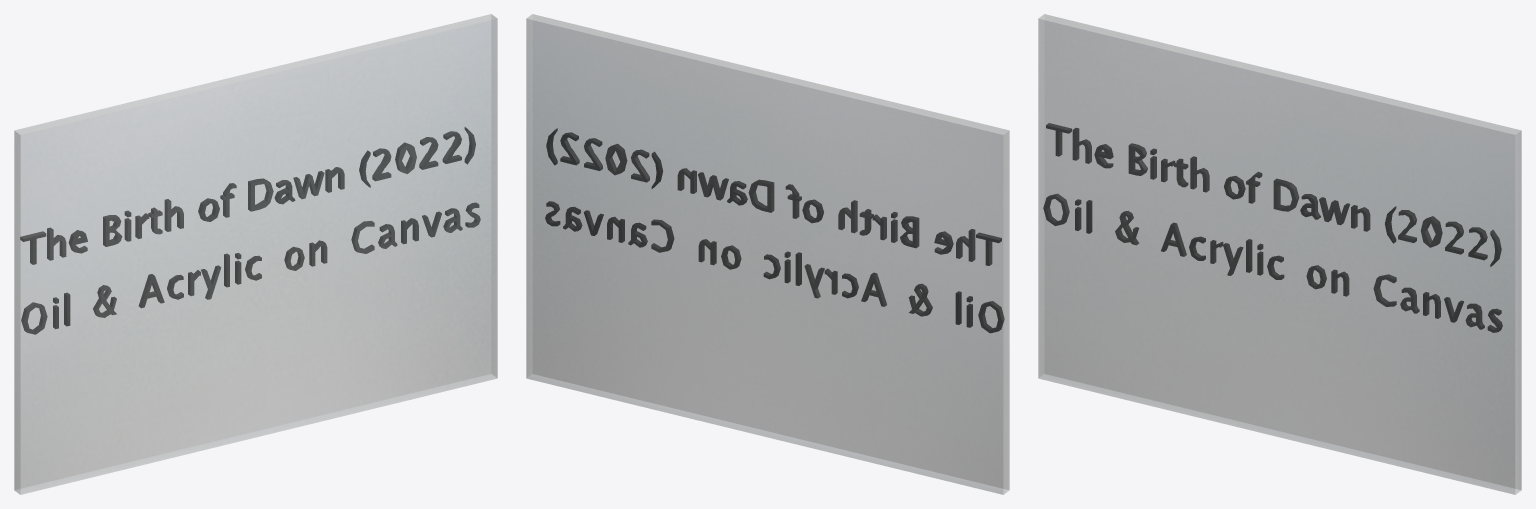
Rendered from Thebirthofdawnglass.fbx.
3 renders of one model, left to right at view 1: azimuth 30°, elevation 25°; view 2: azimuth 150°, elevation 25°; view 3: azimuth 330°, elevation 25°, orthographic.
Visible parts, largest first — view 1: glasspanel, typeMesh, typeMesh1; view 2: glasspanel, typeMesh, typeMesh1; view 3: glasspanel, typeMesh, typeMesh1.
Part boxes in pixels (bbox=[...]): glasspanel: bbox=[14, 14, 497, 494]; typeMesh: bbox=[20, 127, 475, 264]; typeMesh1: bbox=[21, 202, 480, 334]; glasspanel: bbox=[526, 14, 1009, 494]; typeMesh: bbox=[546, 128, 1001, 265]; typeMesh1: bbox=[545, 201, 1004, 333]; glasspanel: bbox=[1038, 14, 1521, 494]; typeMesh: bbox=[1046, 123, 1501, 266]; typeMesh1: bbox=[1043, 193, 1502, 332].
Size of the model in its own units: 8.22 by 5.93 by 0.1877.
